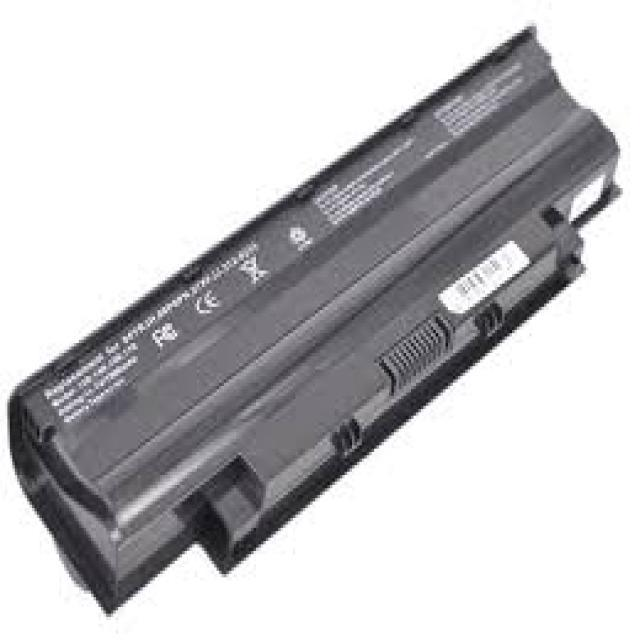Battery: (10, 23, 628, 607)
